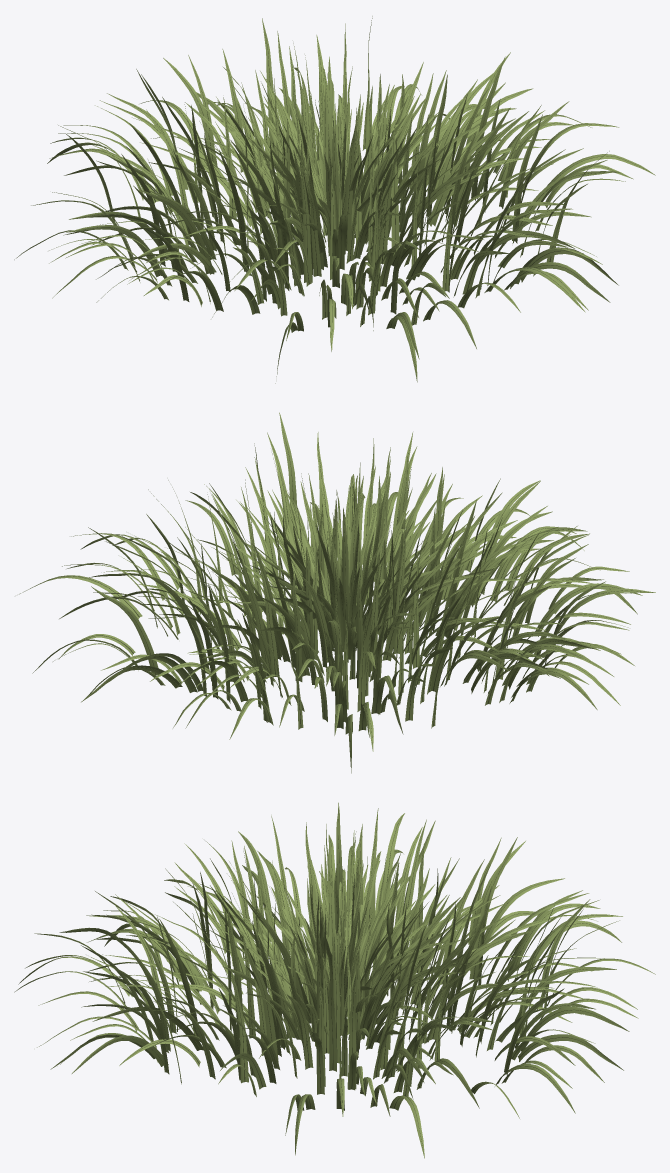
The model's file is uploads_files_4232709_grass.fbx.
3 renders of one model, top to bottom at view 1: azimuth 30°, elevation 25°; view 2: azimuth 150°, elevation 25°; view 3: azimuth 270°, elevation 25°, orthographic. The views are drawn at different scales.
Parts seen in each view (by area): view 1: Grass_geo, stalk_geo; view 2: Grass_geo, stalk_geo; view 3: Grass_geo, stalk_geo.
Boxes of the visible parts, left/top/right/bottom form: Grass_geo: left=17, top=16, right=655, bottom=382; stalk_geo: left=16, top=18, right=654, bottom=383; Grass_geo: left=20, top=413, right=655, bottom=767; stalk_geo: left=30, top=415, right=653, bottom=773; Grass_geo: left=15, top=802, right=654, bottom=1158; stalk_geo: left=14, top=808, right=655, bottom=1153.
Bounding box in the file's own units: 4.4 × 1.14 × 4.19.
